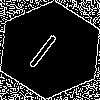I: (25, 25, 67, 70)
